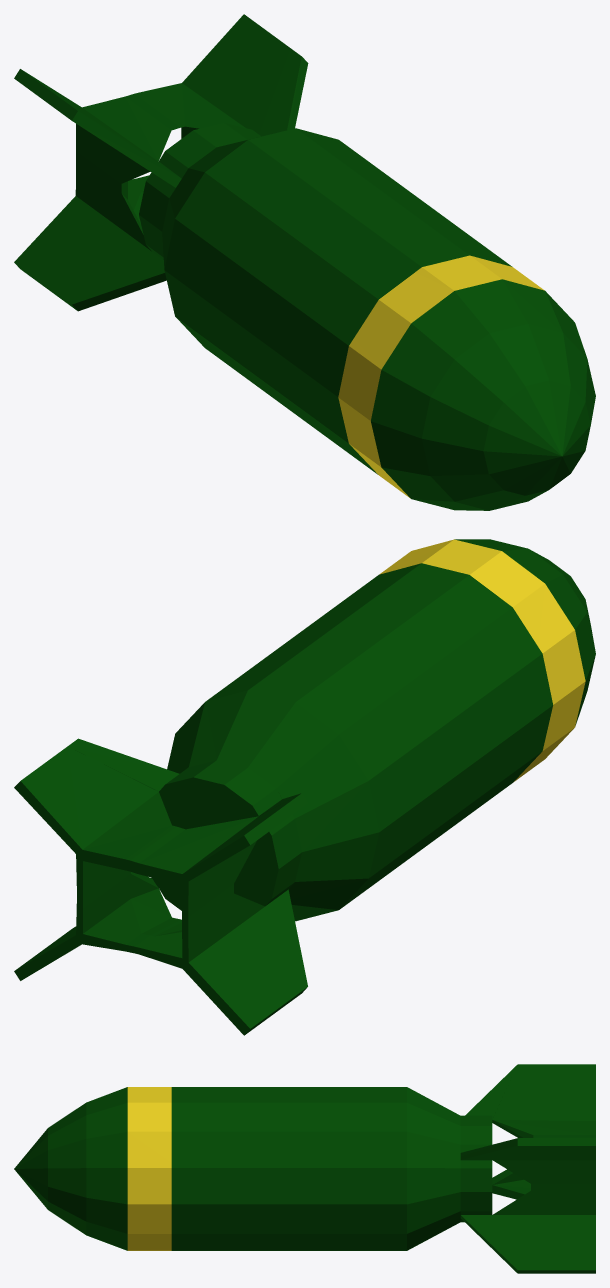
File: bomb.glb
The picture shows the model from 3 angles, top to bottom: view 1: azimuth 30°, elevation 25°; view 2: azimuth 150°, elevation 25°; view 3: azimuth 270°, elevation 25°; orthographic projection. The views are drawn at different scales.
Visible parts, largest first — view 1: Mesh_0; view 2: Mesh_0; view 3: Mesh_0.
Part boxes in pixels (left/top/right/bottom): Mesh_0: left=14, top=14, right=595, bottom=510; Mesh_0: left=14, top=539, right=595, bottom=1035; Mesh_0: left=14, top=1064, right=595, bottom=1273.
Bounding box in the file's own units: 0.2229 × 0.1976 × 0.7026.
